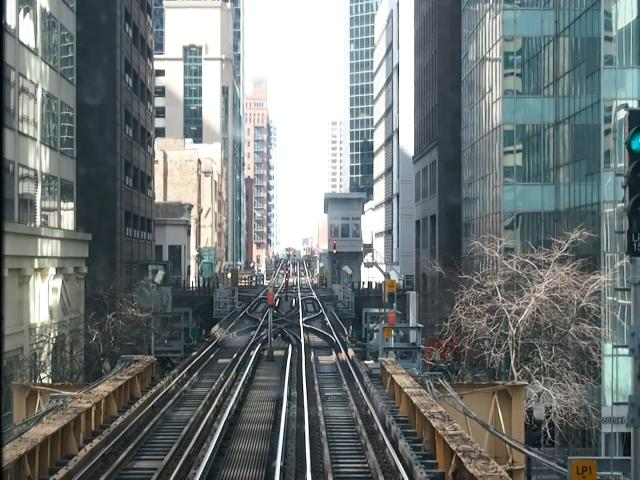signal light: (627, 103, 640, 261)
